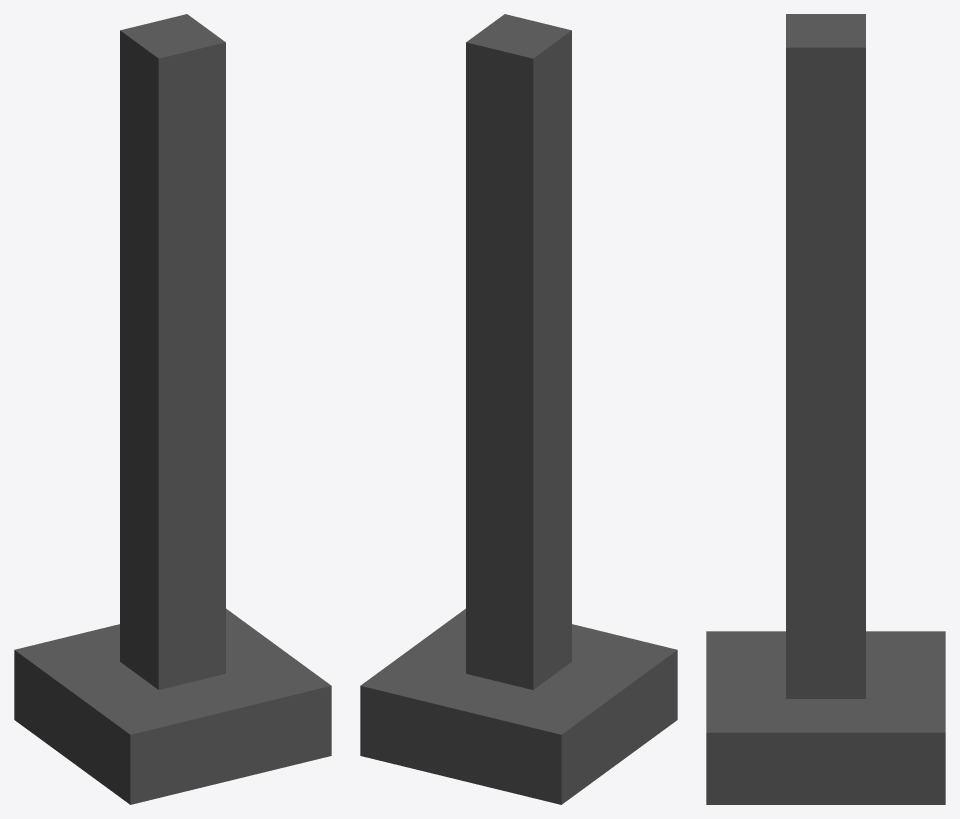
The picture shows the model from 3 angles, left to right: view 1: azimuth 30°, elevation 25°; view 2: azimuth 150°, elevation 25°; view 3: azimuth 270°, elevation 25°; orthographic projection. The views are drawn at different scales.
Size of the model in its own units: 3 by 10 by 3.
